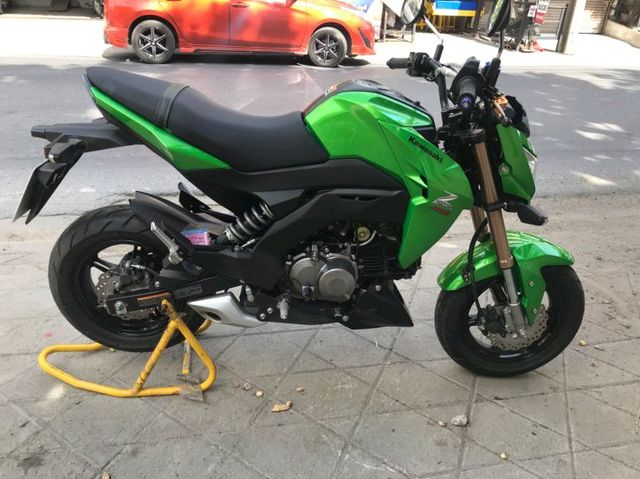motorcycle: (23, 54, 589, 385)
